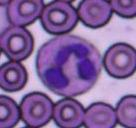N: (36, 34, 102, 96)
